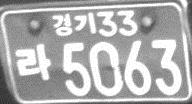0: (90, 41, 123, 96)
3: (151, 38, 182, 96), (97, 10, 117, 37), (118, 9, 137, 37)
5: (62, 42, 90, 96)
6: (124, 40, 151, 95)
경기_O: (51, 12, 96, 36)
라: (15, 42, 52, 81)
